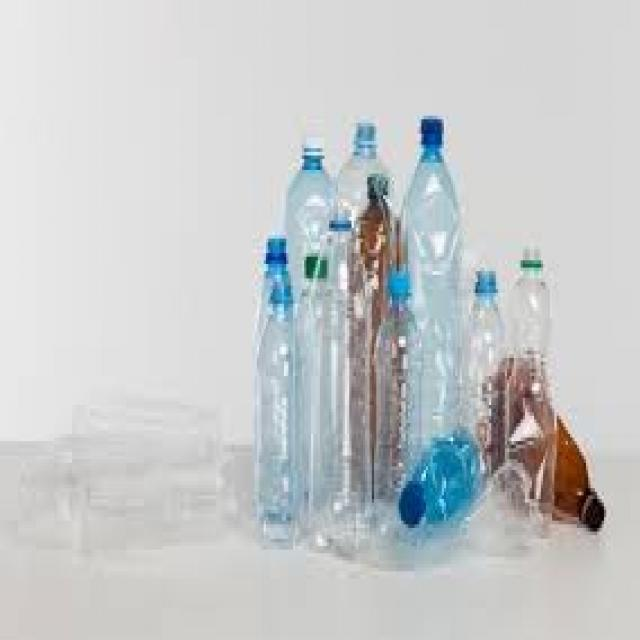Plastic: (401, 113, 464, 483), (306, 212, 373, 556), (490, 352, 610, 532), (503, 238, 552, 546), (256, 274, 304, 546), (398, 426, 481, 530)
